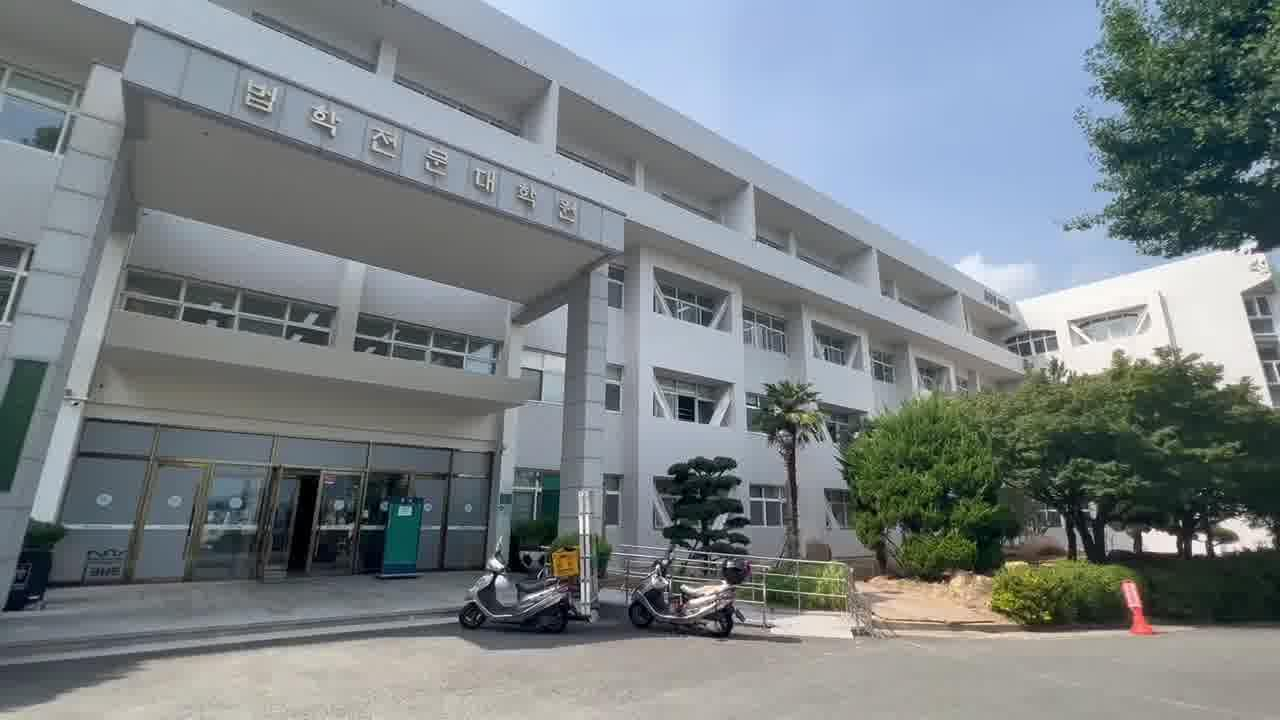building: (0, 0, 803, 549)
